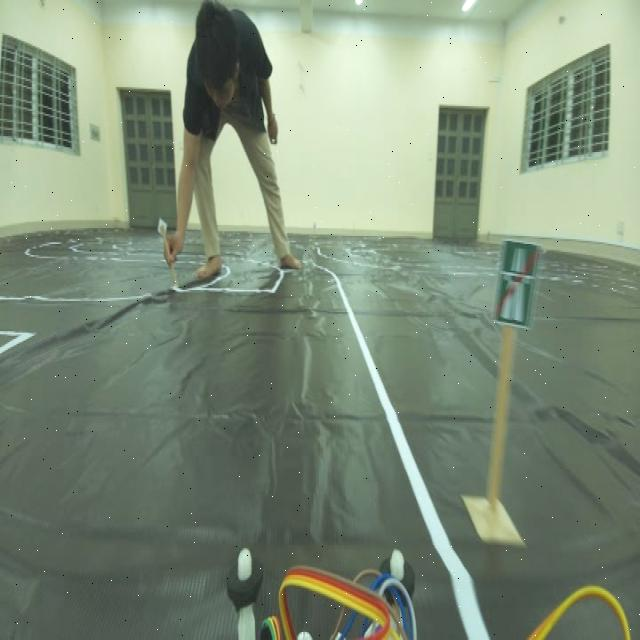highway_exit: (498, 233, 540, 344)
